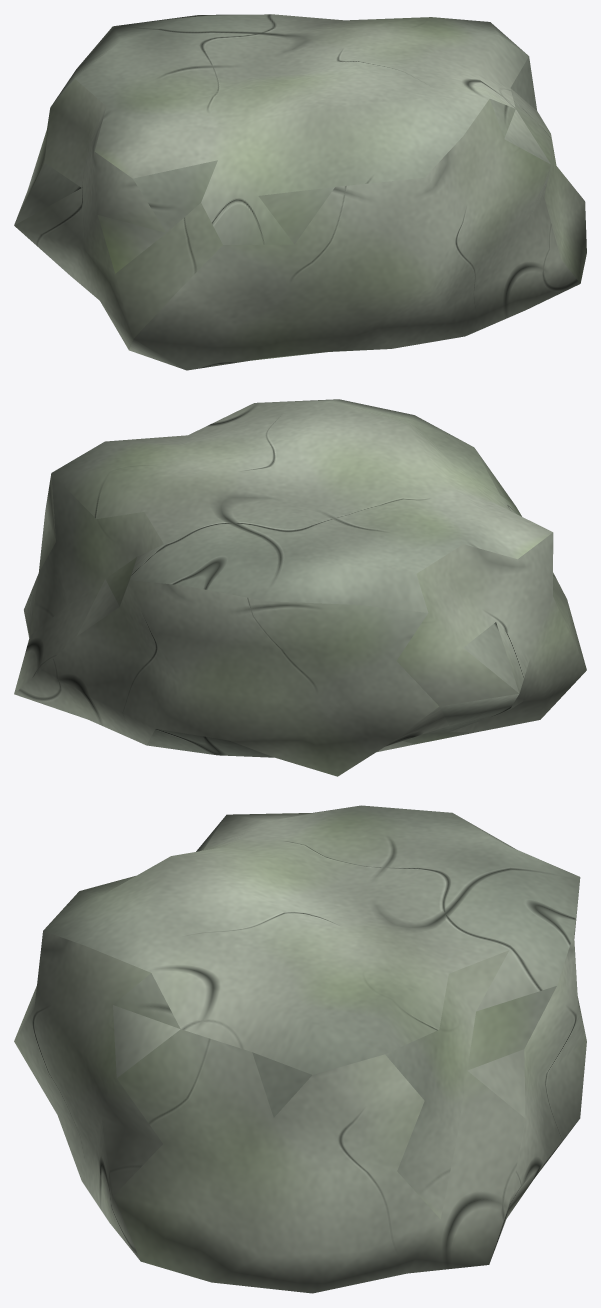
File: boulder_a.glb
3 views of the same model, one above another, from view 1: azimuth 30°, elevation 25°; view 2: azimuth 150°, elevation 25°; view 3: azimuth 270°, elevation 25° (orthographic). The views are drawn at different scales.
Parts seen in each view (by area): view 1: boulder_a; view 2: boulder_a; view 3: boulder_a.
Boxes of the visible parts, x1,y1,x2,y2 form: boulder_a: [14, 14, 586, 370]; boulder_a: [14, 399, 586, 776]; boulder_a: [14, 805, 586, 1293].
Size of the model in its own units: 1.38 by 0.5826 by 1.14.
1 material, 1 textured.
